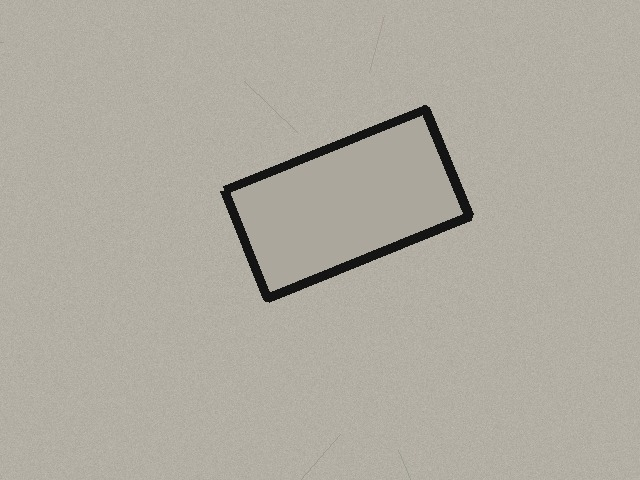parking_area: (224, 109, 469, 298)
